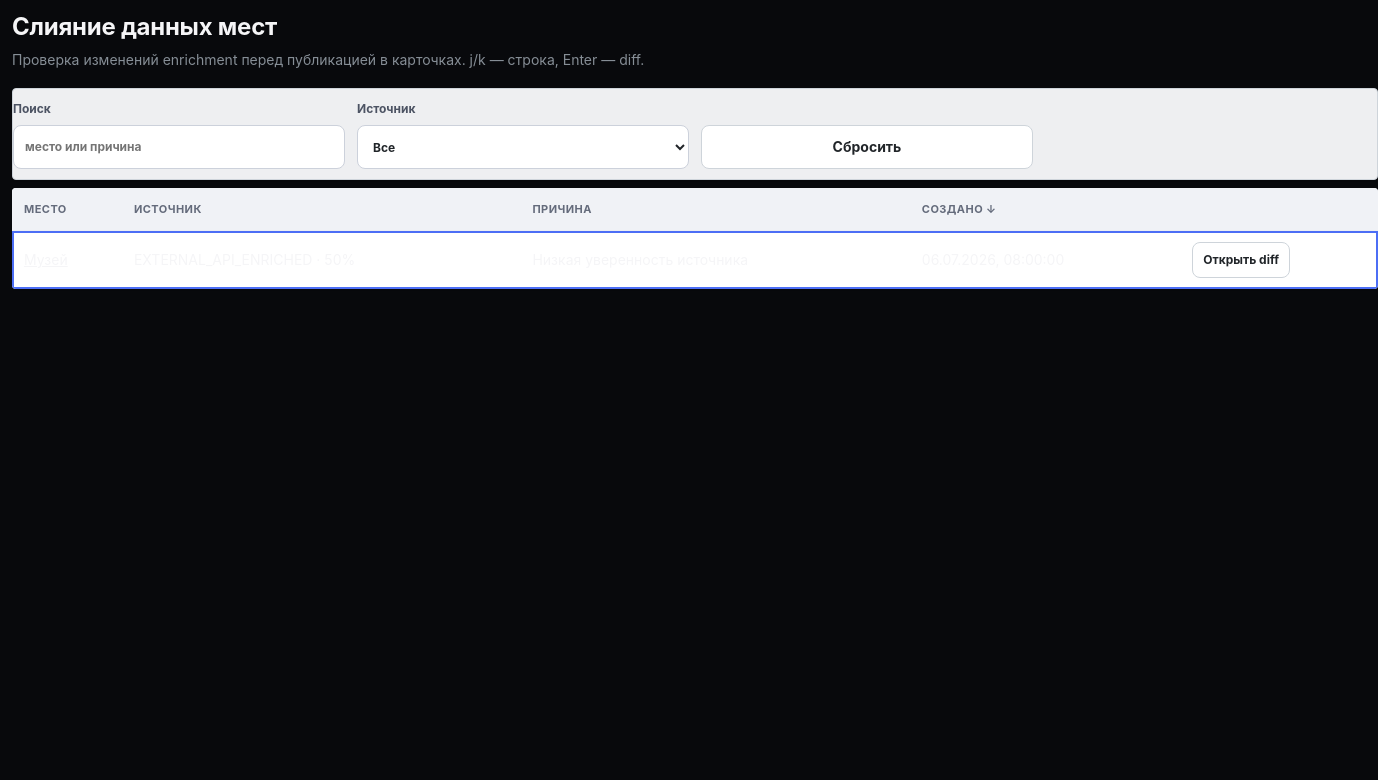
it: AdminReviewsPage › merges selected fields and shows safe conflict message on failure
Click the button "Открыть diff": (1241, 260) [1192,242,1290,278]
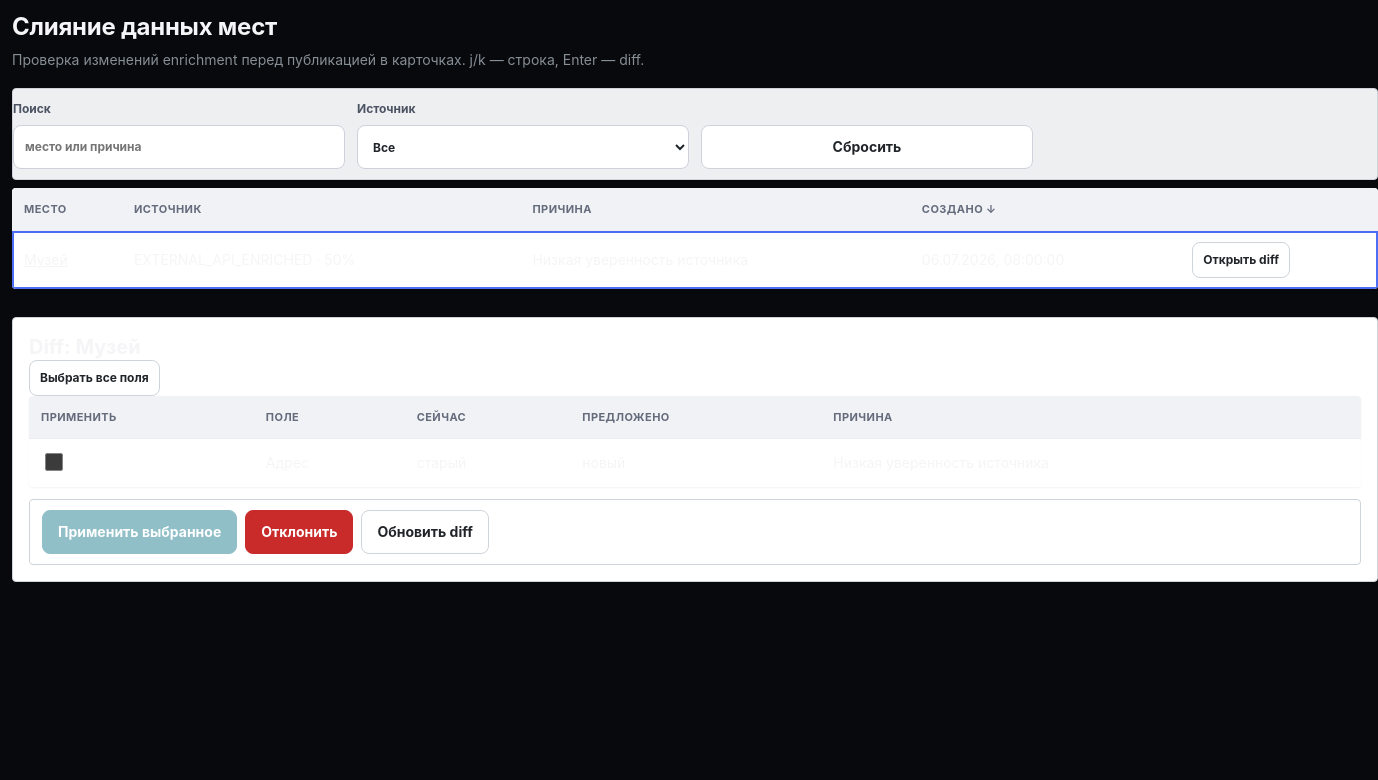
Result: the checkbox named "Выбрать Адрес" is shown
Click the checkbox named "Выбрать Адрес": (54, 462) [45,453,63,471]
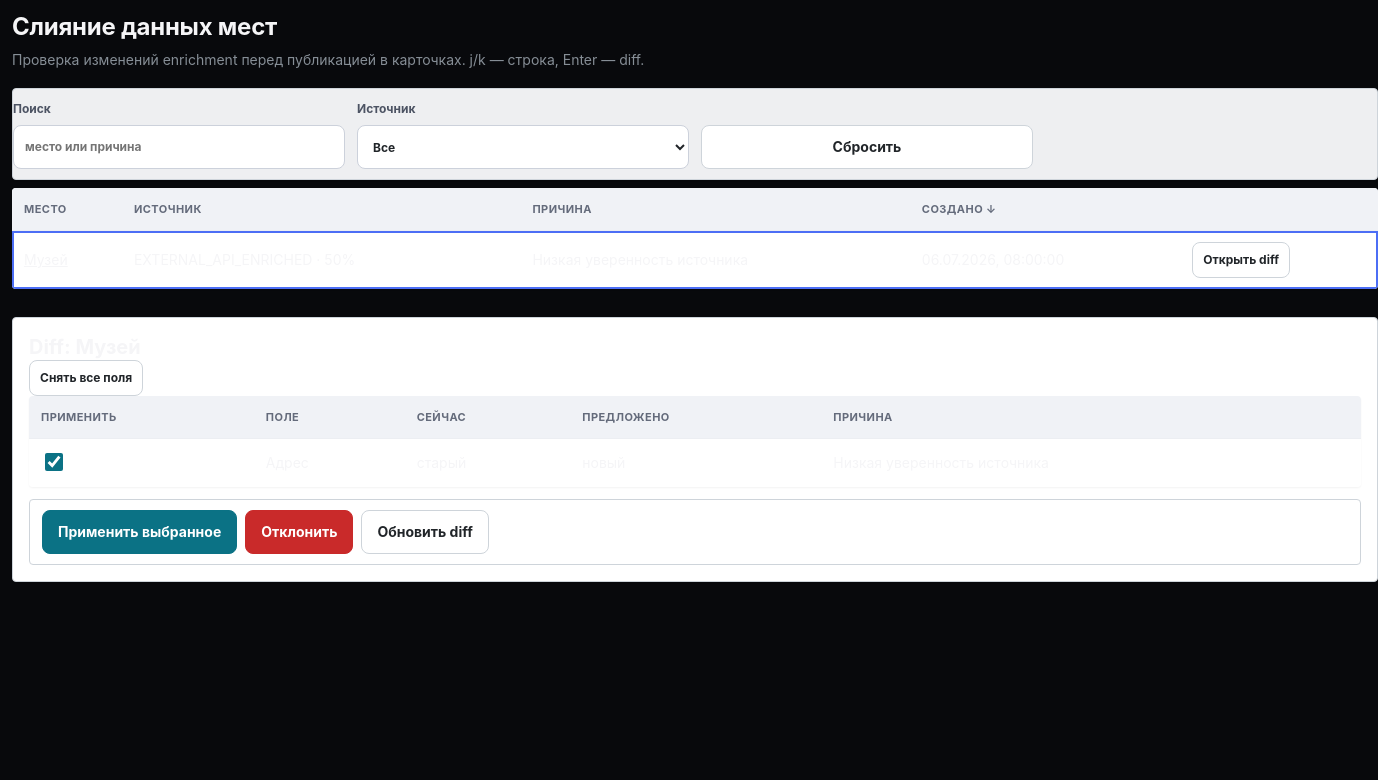
Click the button "Применить выбранное": (140, 532) [42,510,237,554]
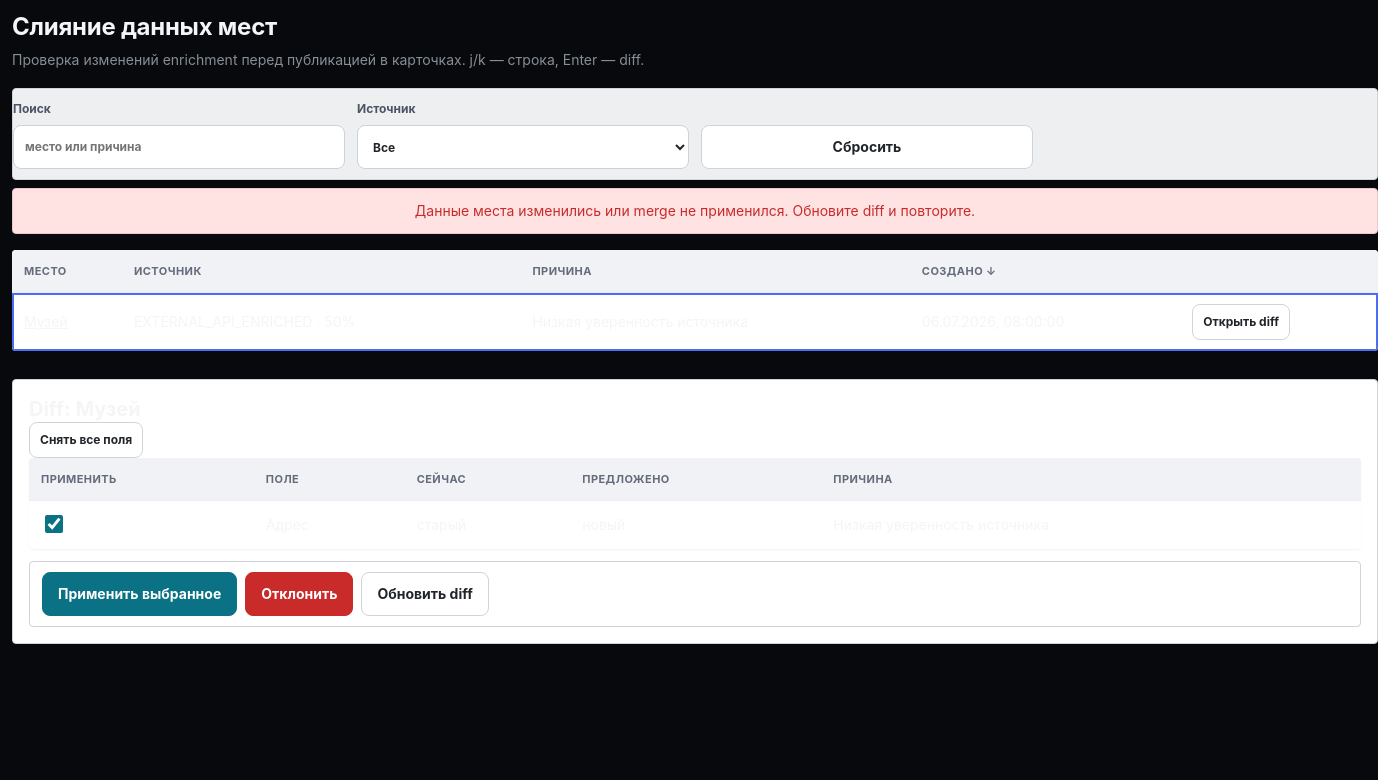
Result: the text "Данные места изменились или merge не применился. Обновите diff и повторите." is shown at [12,188,1377,234]
